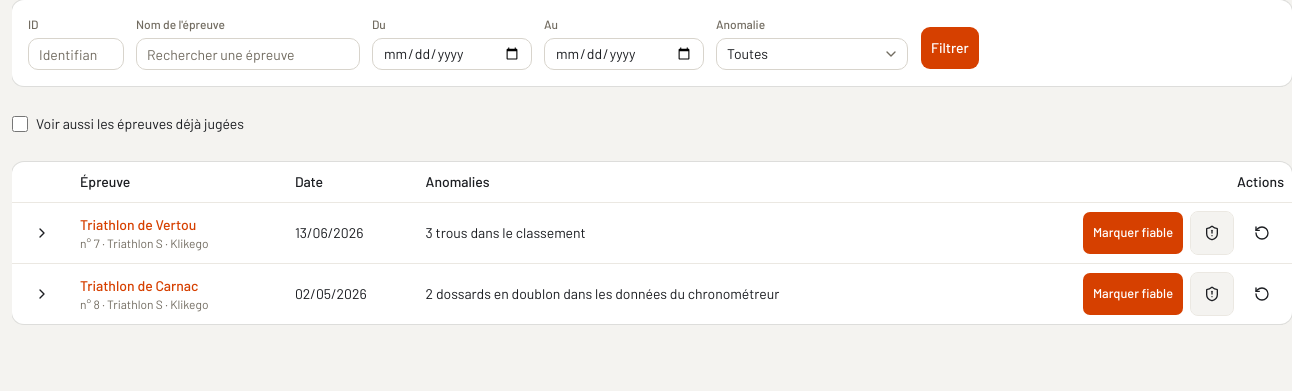
it: QualityQueueTable › replier masque à nouveau les sources
Expected: the link "Triathlon de Vertou" is shown, [80,216,196,232]
Click the button named "Afficher les sources — Triathlon de Vertou". click: (42, 232)
box: [20,210,64,254]
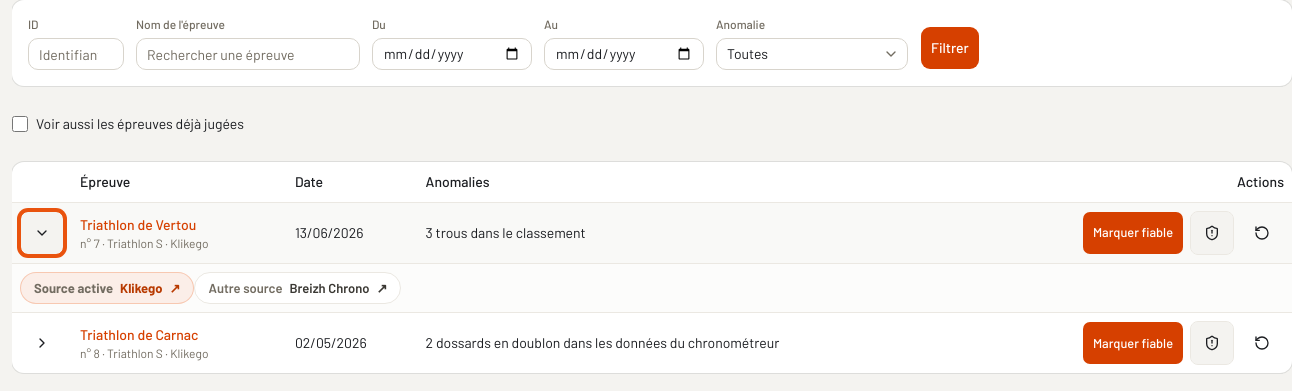
Result: the link "Autre source Breizh Chrono ↗" is shown at [194,272,401,304]
Click the button named "Masquer les sources — Triathlon de Vertou". click: (42, 232)
box: [20,210,64,254]
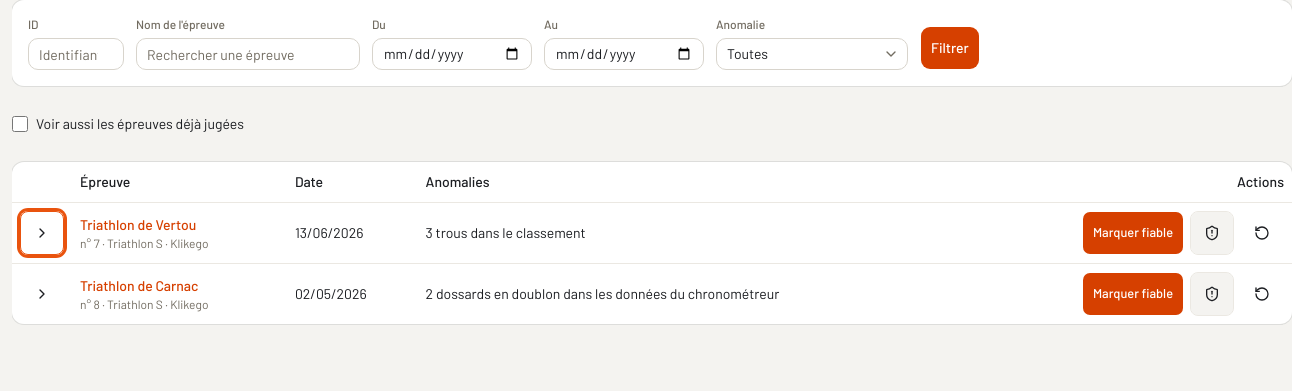
Result: the link "Breizh Chrono" is gone
